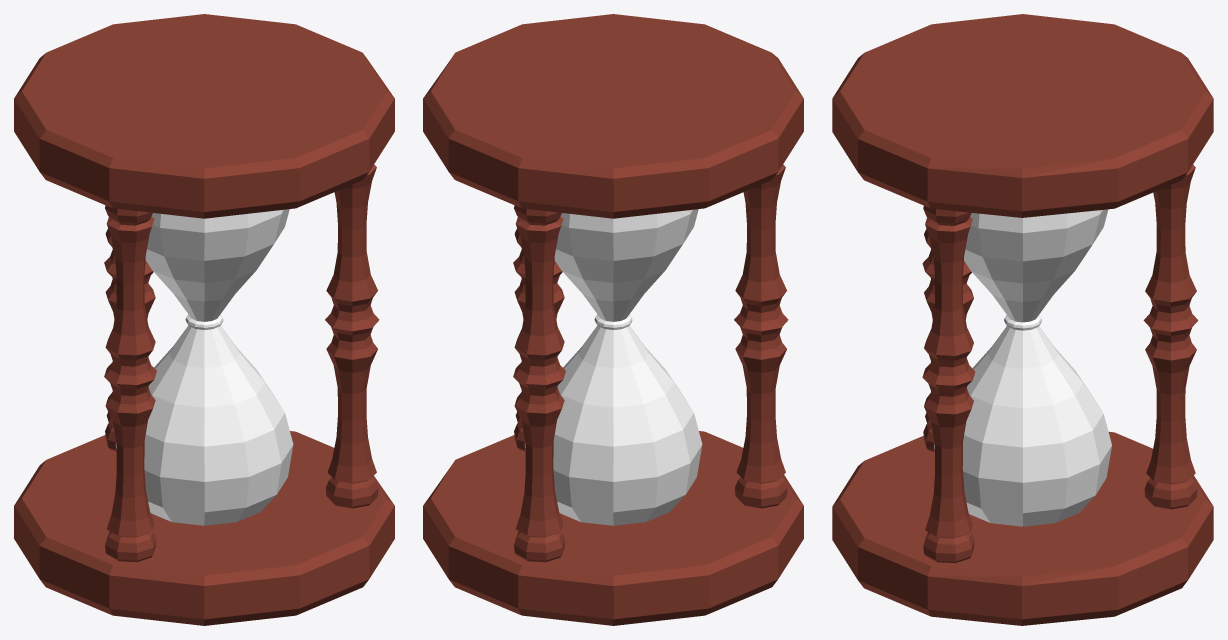
File: Sablier.glb
3 views of the same model, side by side, from view 1: azimuth 30°, elevation 25°; view 2: azimuth 150°, elevation 25°; view 3: azimuth 270°, elevation 25° (orthographic).
Visible parts, largest first — view 1: Node; view 2: Node; view 3: Node.
Part boxes in pixels (box(x1,y1,x2,y2)): Node: box(14, 14, 394, 625); Node: box(423, 14, 803, 625); Node: box(832, 14, 1213, 625).
Size of the model in its own units: 5.83 by 7.78 by 5.87.
